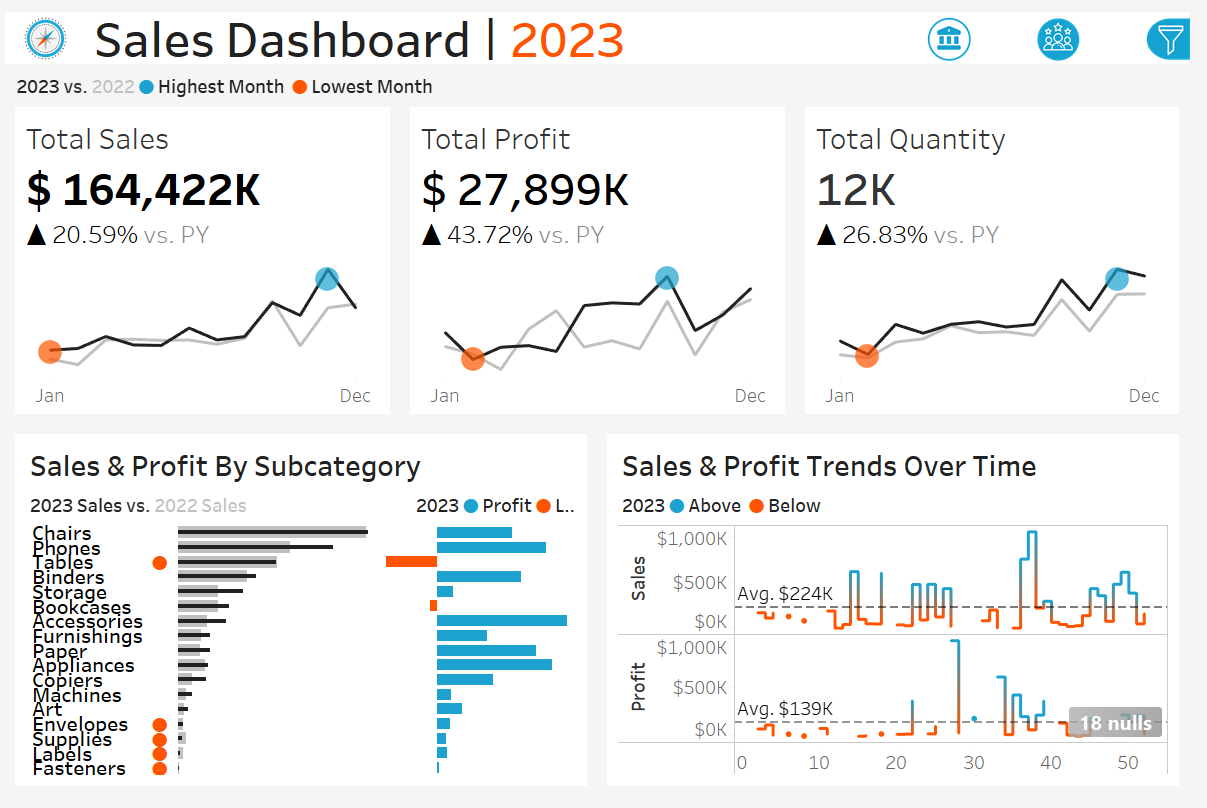

The page's visual inventory and layout, read from the dashboard file:
{"tool":"tableau","page":{"name":"Sales Drashboard","canvas":[1200,800],"ordinal":1},"visuals":[{"type":"image","param":"C:/Users/saroj/Downloads/TableauProject-SalesDashboard/Icons/Icon - Logo.png","box":[8,8,81,52]},{"type":"text","box":[89,8,1103,52]},{"type":"dashboard-object","box":[898,9,109,52]},{"type":"dashboard-object","box":[1007,9,109,52]},{"type":"text","box":[929,10,249,161]},{"type":"worksheet","title":"Legend KPI","mark":"Automatic","box":[8,60,1184,43]},{"type":"worksheet","title":"KPI Sales","mark":"Automatic","rows":["Calculation_2566207376485740545"],"cols":["Order Date"],"box":[8,103,395,317]},{"type":"worksheet","title":"KPI Profit","mark":"Automatic","rows":["Min/Max Sales (copy)_2566207376514584587"],"cols":["Order Date"],"box":[403,103,395,317]},{"type":"worksheet","title":"KPI Quantity","mark":"Automatic","rows":["Min/Max Profit (copy)_2566207376533856273"],"cols":["Order Date"],"box":[798,103,394,317]},{"type":"parameter","param":"[Parameters].[Parameter 1]","box":[929,171,249,66]},{"type":"blank","box":[929,237,249,28]},{"type":"text","box":[929,265,249,39]},{"type":"filter","title":"KPI Sales","param":"[federated.1er8vji0x242ia1f6og5i0aeew9h].[none:Category:nk]","box":[929,304,249,70]},{"type":"filter","title":"KPI Sales","param":"[federated.1er8vji0x242ia1f6og5i0aeew9h].[none:Sub-Category:nk]","box":[929,374,249,70]},{"type":"text","box":[25,437,558,47]},{"type":"text","box":[617,437,558,47]},{"type":"blank","box":[929,444,249,37]},{"type":"text","box":[929,481,249,39]},{"type":"worksheet","title":"Legend Subcatogary","mark":"Automatic","box":[25,484,386,33]},{"type":"text","box":[411,484,172,33]},{"type":"text","box":[617,484,558,33]},{"type":"worksheet","title":"Subcatogary Comparision","mark":"Bar","rows":["Sub-Category","Calculation_2566207376539774994"],"cols":["CY Sales (copy)_383087456824844289","Calculation_383087456824078336","Calculation_2566207376510676998"],"box":[25,517,558,258]},{"type":"worksheet","title":"Weekly Trends","mark":"Automatic","rows":["Calculation_383087456824078336","Calculation_2566207376510676998"],"cols":["Order Date"],"box":[617,517,558,258]},{"type":"filter","title":"KPI Sales","param":"[federated.1er8vji0x242ia1f6og5i0aeew9h].[none:Region:nk]","box":[929,520,249,70]},{"type":"filter","title":"KPI Sales","param":"[federated.1er8vji0x242ia1f6og5i0aeew9h].[none:State:nk]","box":[929,590,249,70]},{"type":"filter","title":"KPI Sales","param":"[federated.1er8vji0x242ia1f6og5i0aeew9h].[none:City:nk]","box":[929,660,249,70]}]}

Visuals, with their boxes in screenshot pixels (x1, y1, x2, y2), scaled from the page's 1200x800 canvas onto the 1207x808 screenshot:
image: locate(8, 8, 90, 61)
text: locate(90, 8, 1199, 61)
dashboard-object: locate(903, 9, 1013, 62)
dashboard-object: locate(1013, 9, 1123, 62)
text: locate(934, 10, 1185, 173)
"Legend KPI" worksheet: locate(8, 61, 1199, 104)
"KPI Sales" worksheet: locate(8, 104, 405, 424)
"KPI Profit" worksheet: locate(405, 104, 803, 424)
"KPI Quantity" worksheet: locate(803, 104, 1199, 424)
parameter: locate(934, 173, 1185, 239)
blank: locate(934, 239, 1185, 268)
text: locate(934, 268, 1185, 307)
"KPI Sales" filter: locate(934, 307, 1185, 378)
"KPI Sales" filter: locate(934, 378, 1185, 448)
text: locate(25, 441, 586, 489)
text: locate(621, 441, 1182, 489)
blank: locate(934, 448, 1185, 486)
text: locate(934, 486, 1185, 525)
"Legend Subcatogary" worksheet: locate(25, 489, 413, 522)
text: locate(413, 489, 586, 522)
text: locate(621, 489, 1182, 522)
"Subcatogary Comparision" worksheet (Bar marks): locate(25, 522, 586, 783)
"Weekly Trends" worksheet: locate(621, 522, 1182, 783)
"KPI Sales" filter: locate(934, 525, 1185, 596)
"KPI Sales" filter: locate(934, 596, 1185, 667)
"KPI Sales" filter: locate(934, 667, 1185, 737)
